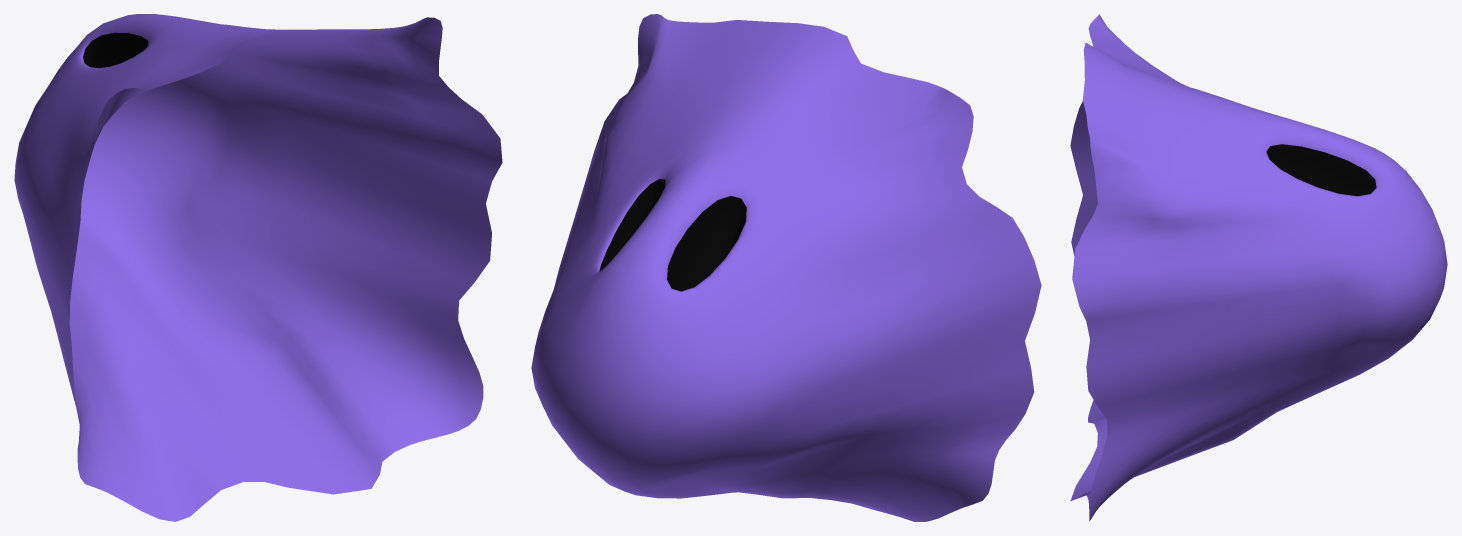
Rendered from Ghost.fbx.
3 renders of one model, left to right at view 1: azimuth 30°, elevation 25°; view 2: azimuth 150°, elevation 25°; view 3: azimuth 270°, elevation 25°, orthographic. The views are drawn at different scales.
Visible parts, largest first — view 1: Ghost.OG.001; view 2: Ghost.OG.001; view 3: Ghost.OG.001.
Part boxes in pixels (bbox=[...]): Ghost.OG.001: bbox=[14, 14, 502, 521]; Ghost.OG.001: bbox=[531, 14, 1041, 521]; Ghost.OG.001: bbox=[1070, 14, 1447, 521].
Bounding box in the file's own units: 219 × 187 × 225.
